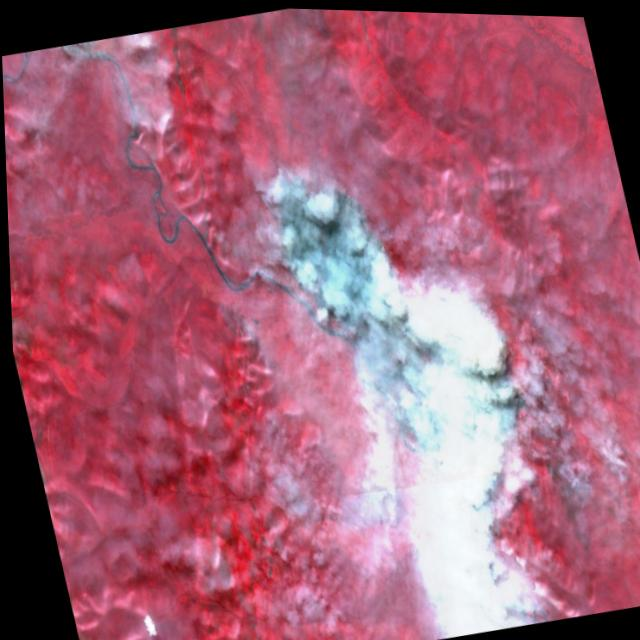fire: (258, 127, 522, 420)
